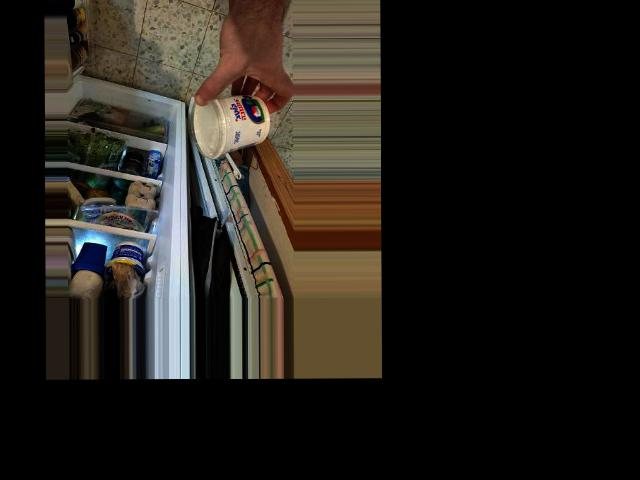cotage: (189, 82, 272, 161)
